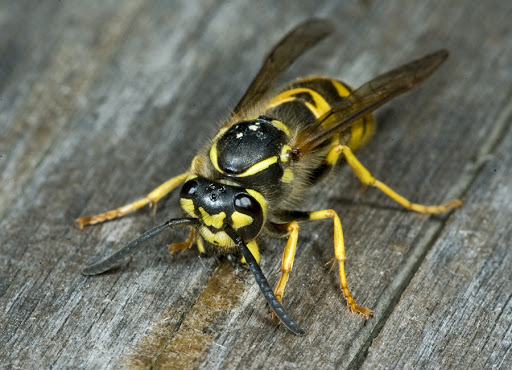chax: (60, 12, 484, 342)
